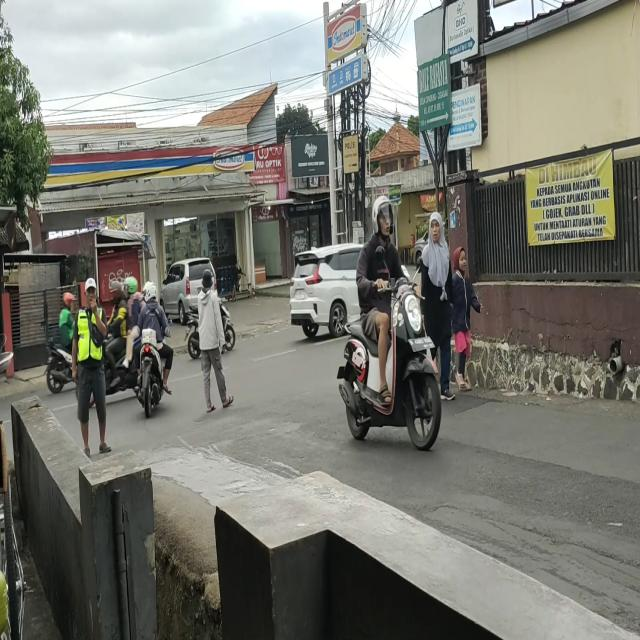helmet: (372, 198, 394, 238), (144, 280, 157, 306), (124, 277, 138, 296), (109, 282, 121, 301), (63, 292, 73, 310)
